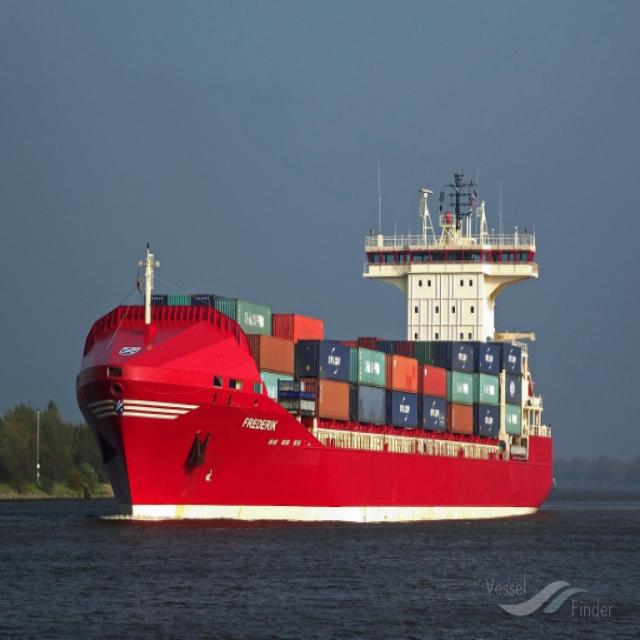Container Ship: (71, 151, 556, 517)
